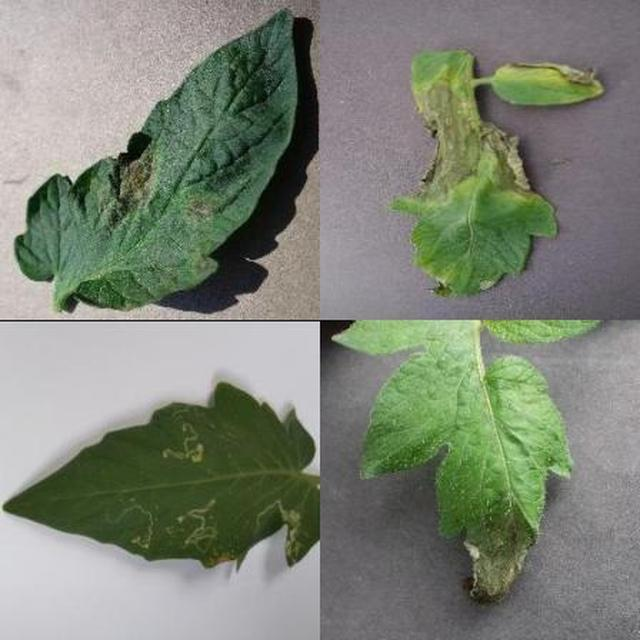Late Blight Leaf: (168, 67, 640, 640)
